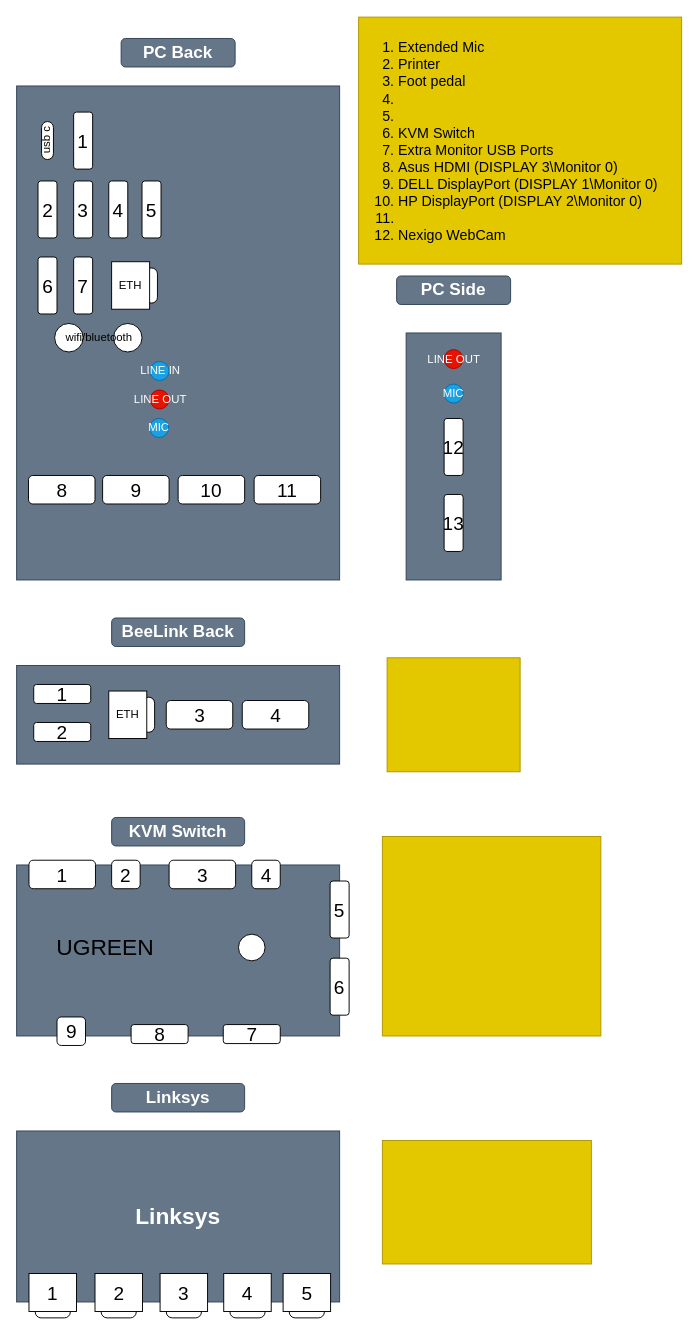
Some shapes in this 698 by 1335 pixel diagram are drawn without their labels. Each missing label, with the centre of its shape:
ETH to USB A extender Work Gaming PC Input: the point at 486,1202
KVM Switch HP HDMI Dell HDMI: the point at 453,714
USB B Work PC USB B Gaming PC Keyboard Mouse Portable Backup Storage Switcher: the point at 491,936
